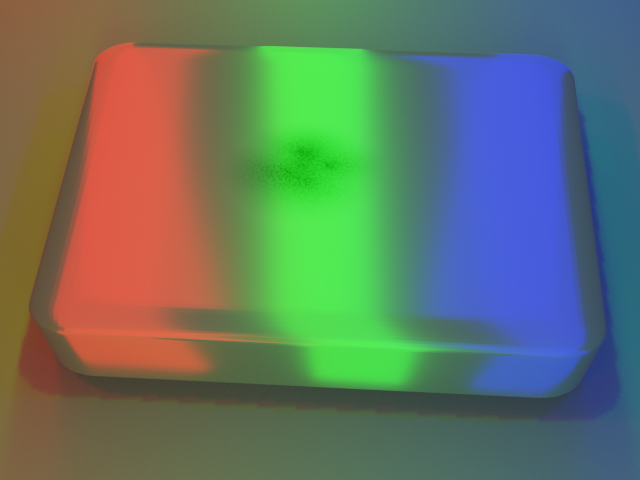stain: (184, 86, 428, 224)
